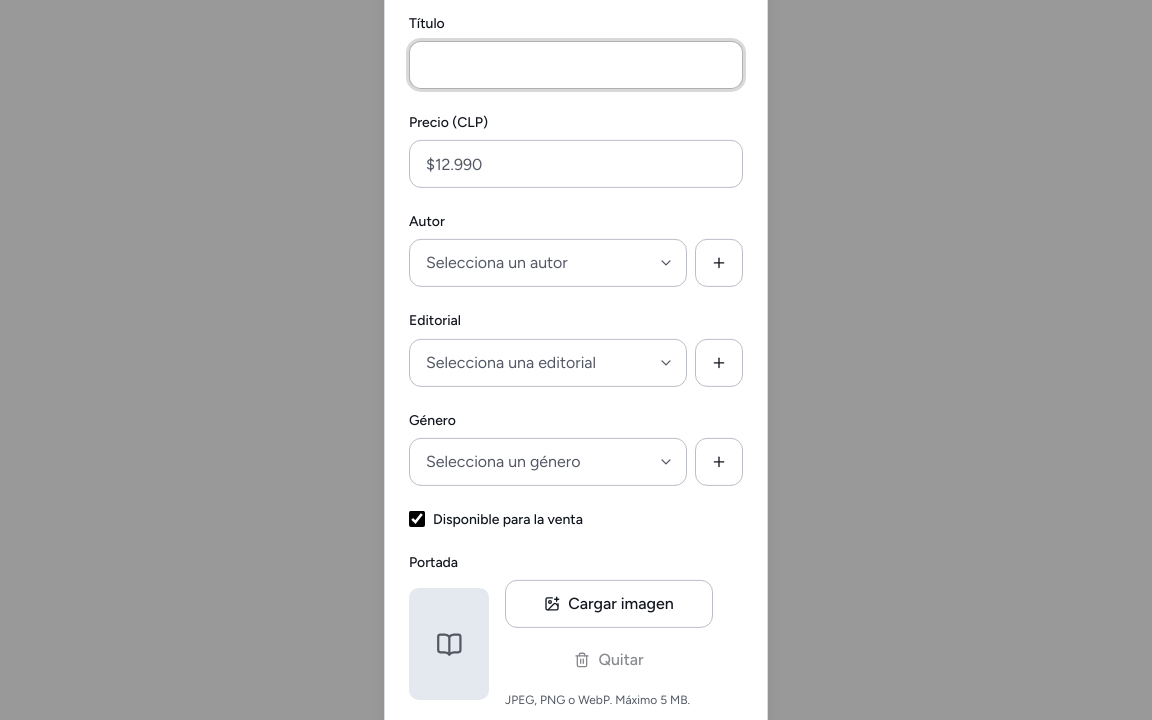
Test case: BookFormPanel › alta de un autor desde el formulario › pide el nombre antes de crear
Click the button named "Agregar autor". click: (719, 263)
box: [695, 239, 743, 287]
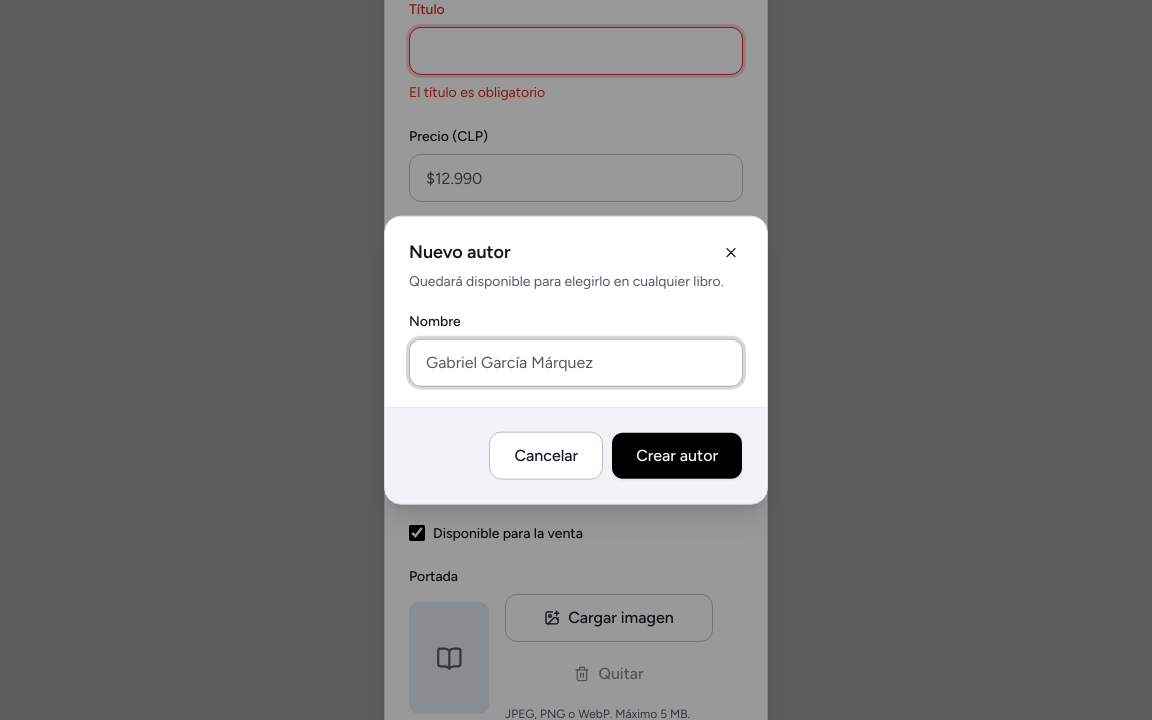
Click the button "Crear autor". click: (677, 455)
box: [611, 431, 743, 479]
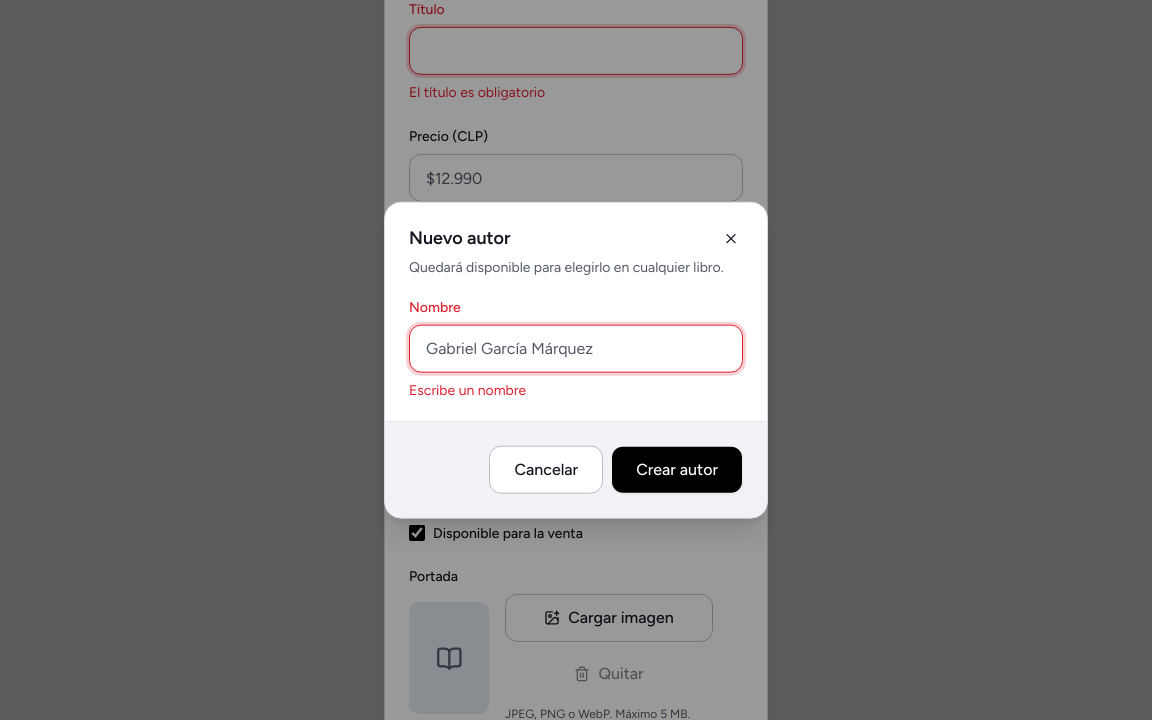
Now the text "Escribe un nombre" is shown, box [409, 381, 526, 398]
